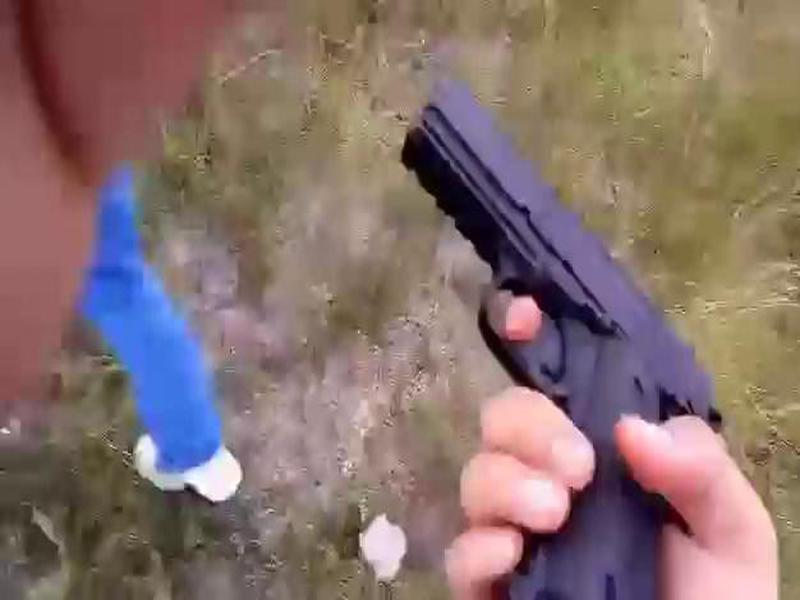Pistola: (373, 83, 727, 591)
